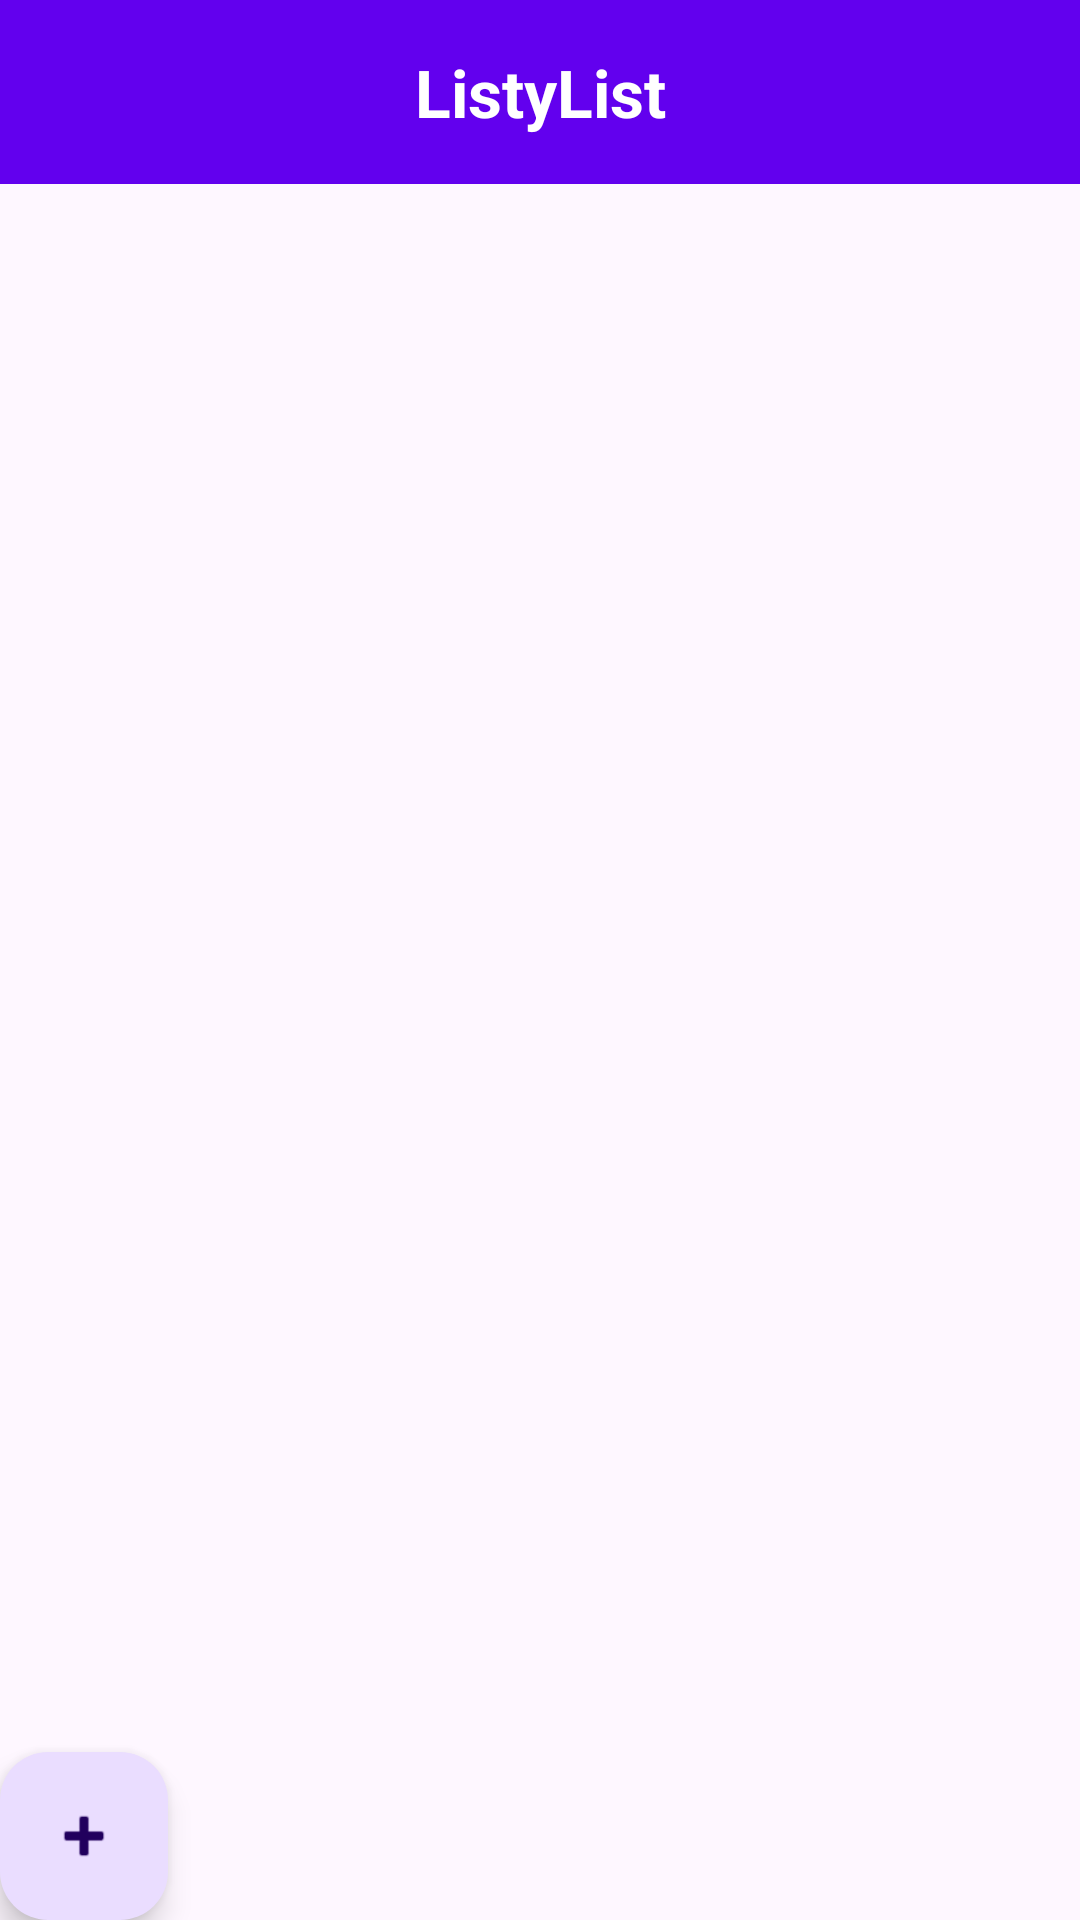

Point at icon controls on the screen. Image size 1080px×1920px, points as [x,y].
add: [84,1836]
